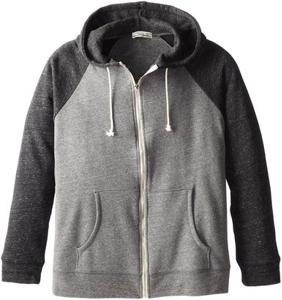C_jacket: (2, 5, 282, 300)
